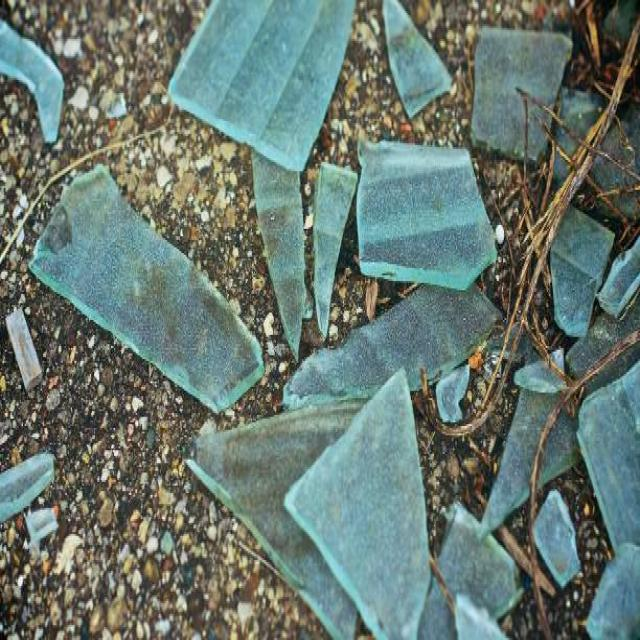electronic: (23, 133, 496, 640)
